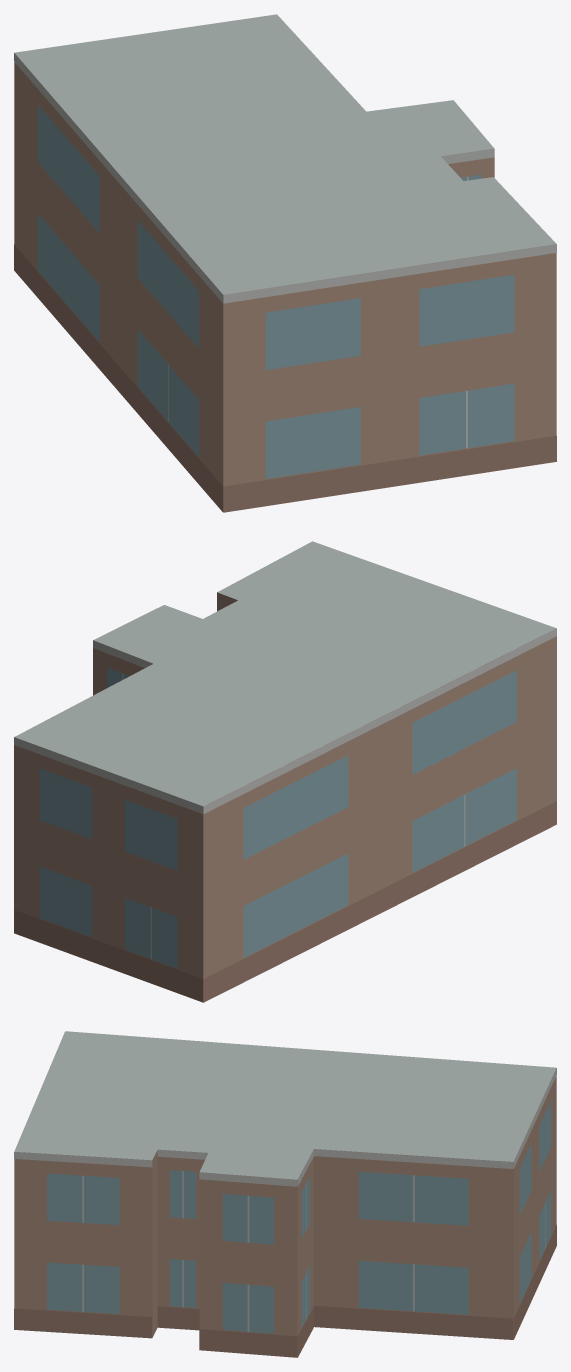
The model's file is survey-upis-32704098.glb.
3 renders of one model, top to bottom at view 1: azimuth 30°, elevation 25°; view 2: azimuth 150°, elevation 25°; view 3: azimuth 270°, elevation 25°, orthographic. The views are drawn at different scales.
Parts seen in each view (by area): view 1: survey-upis-32704098.tmp; view 2: survey-upis-32704098.tmp; view 3: survey-upis-32704098.tmp.
Boxes of the visible parts, x1,y1,x2,y2 form: survey-upis-32704098.tmp: [14, 14, 556, 512]; survey-upis-32704098.tmp: [14, 541, 556, 1002]; survey-upis-32704098.tmp: [14, 1031, 556, 1357].
Size of the model in its own units: 10.93 by 6.1 by 16.87.
